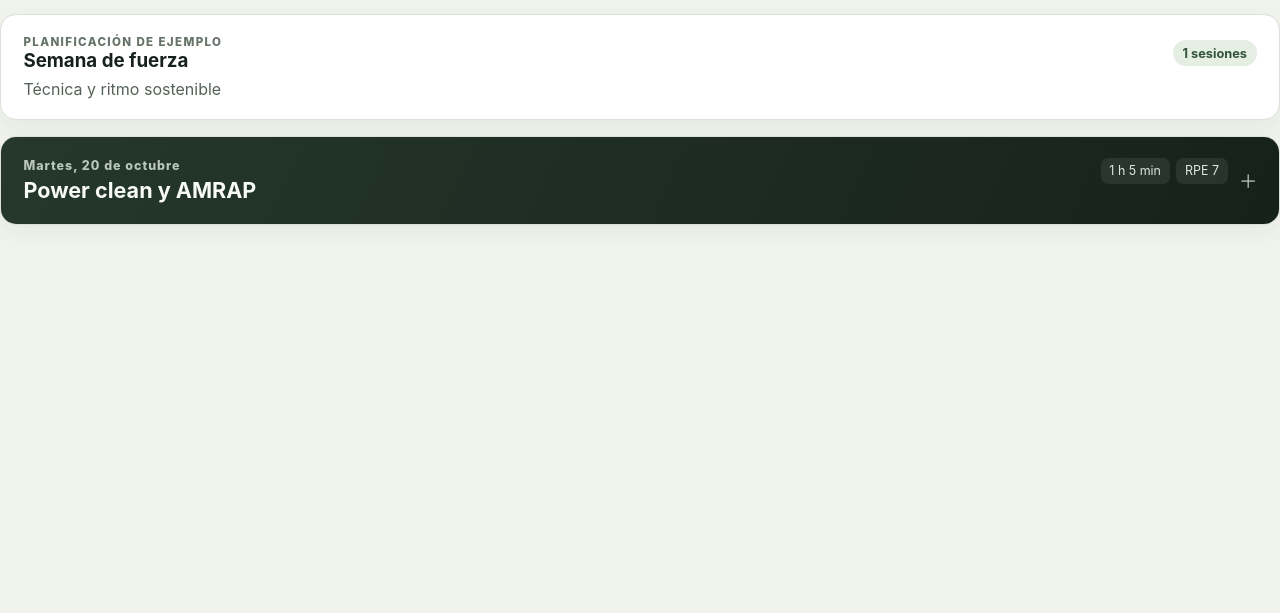
Test: PlanningWeekScreen › switches a load between RX and scaled
Check: the heading "Semana de fuerza" is shown, box [23, 49, 188, 72]
Click the heading "Power clean y AMRAP": x=140, y=190 [23, 177, 256, 203]
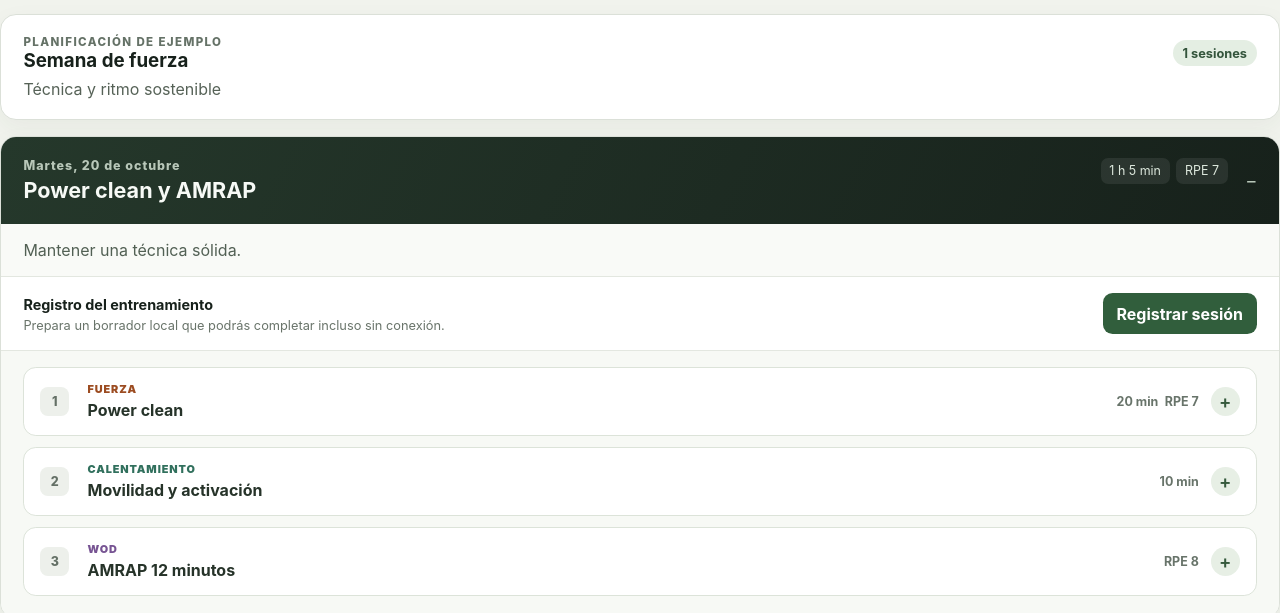
Click the button "Registrar sesión": x=1180, y=314 [1103, 293, 1257, 334]
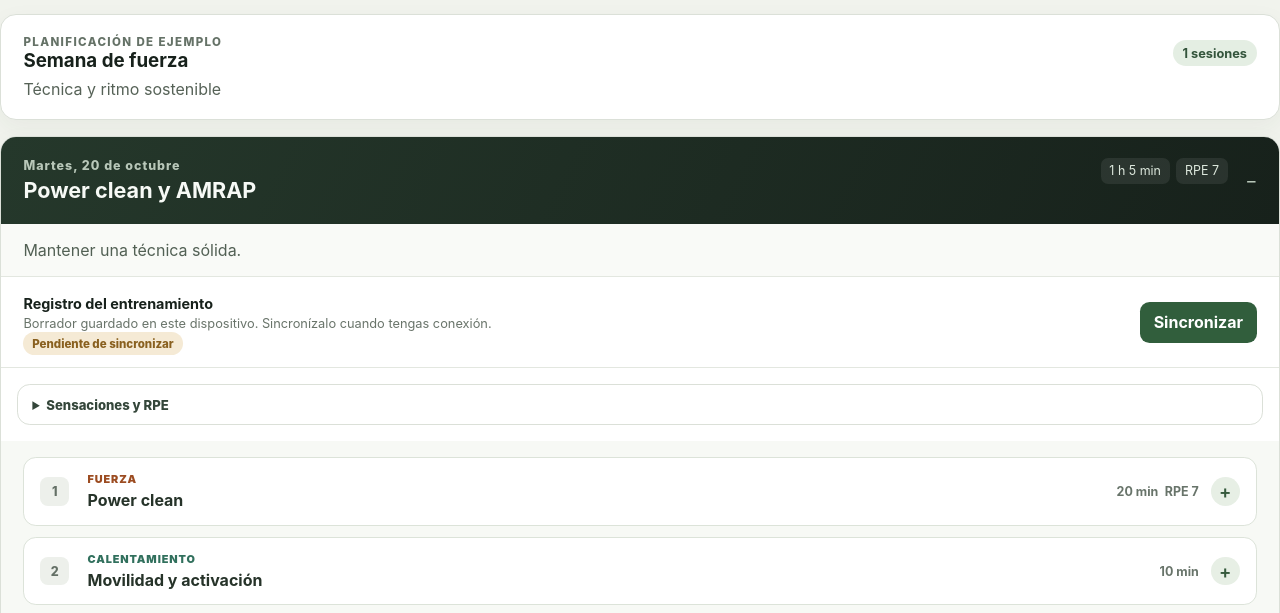
Check: the button "Sincronizar" is shown, box [1140, 302, 1257, 343]
Click the button with aria-label "Fuerza: Power clean": x=112, y=479 [24, 458, 1256, 524]
(page scrolled)
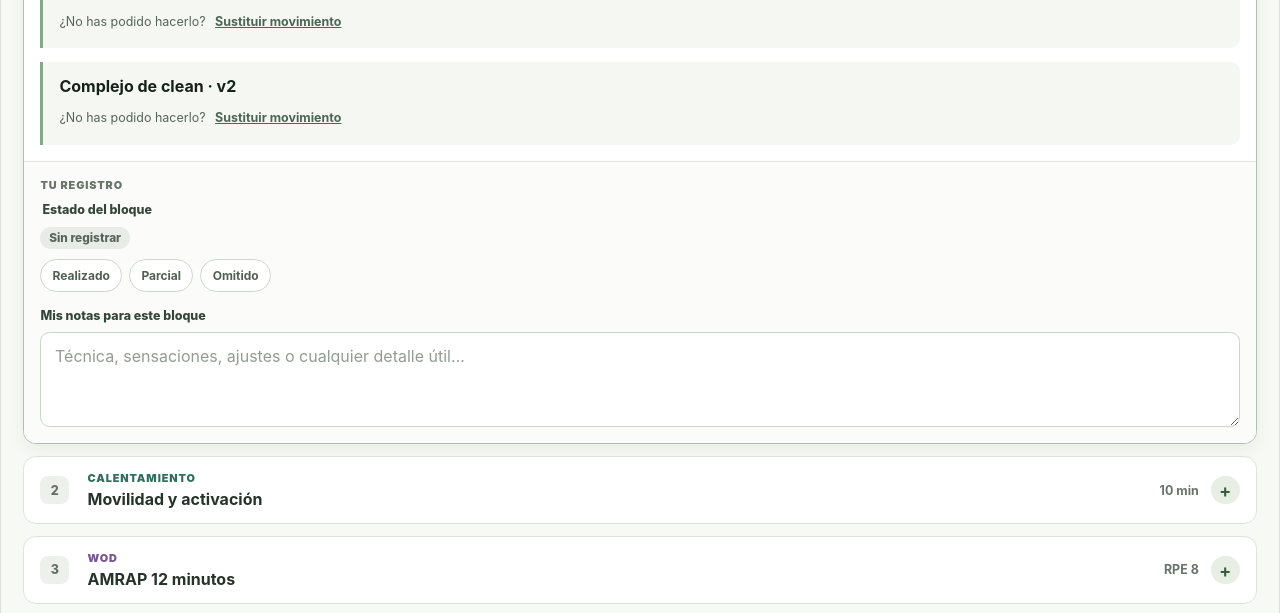
Click the button "Realizado": x=81, y=276 [40, 259, 122, 292]
(page scrolled)
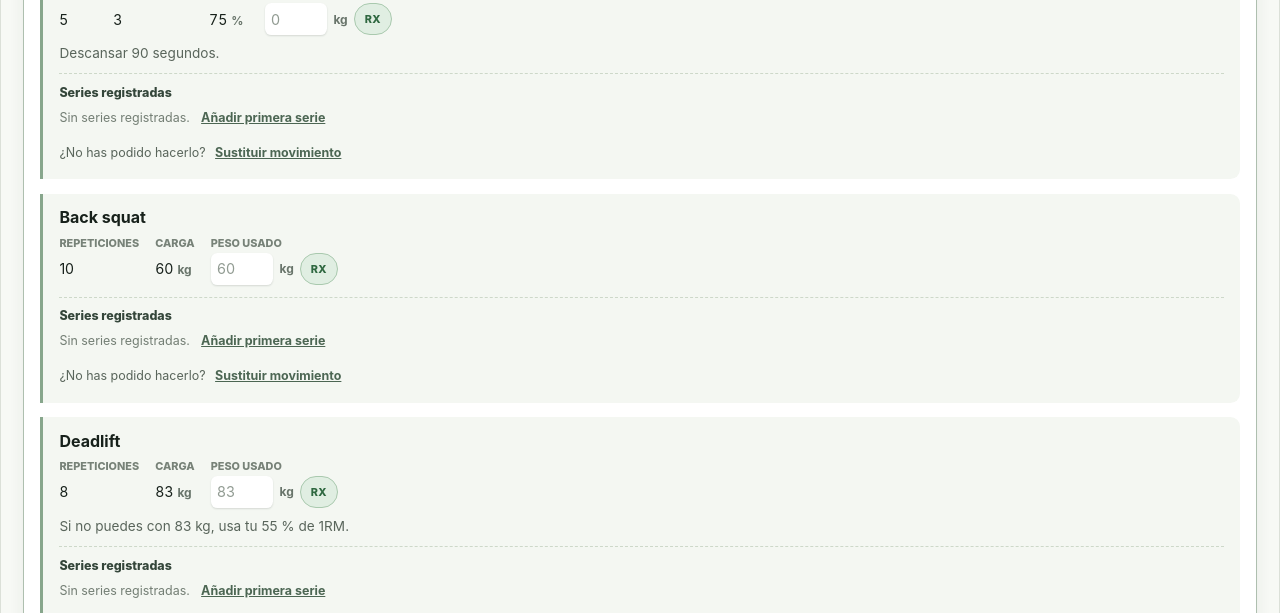
Click the button with aria-label "Tipo de carga en Back squat: RX": x=319, y=269 [300, 253, 338, 285]
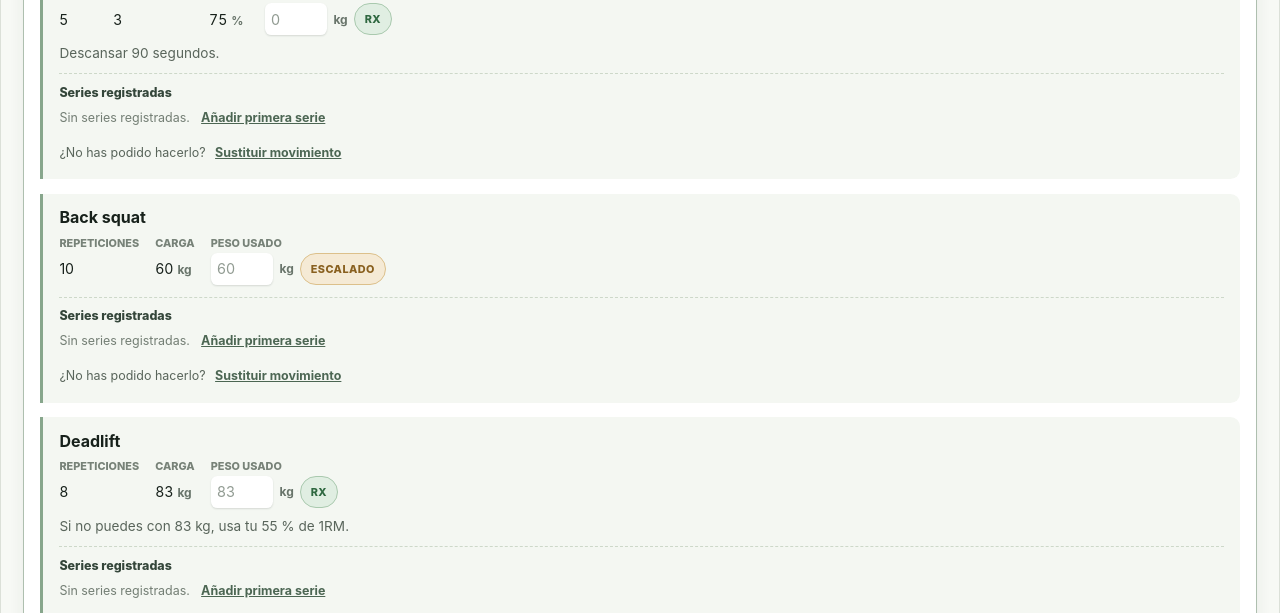
Check: the button with aria-label "Tipo de carga en Back squat: Escalado" is not pressed, box [300, 253, 386, 285]
Check: the button with aria-label "Tipo de carga en Back squat: Escalado" has class "load-status-toggle-scaled", box [300, 253, 386, 285]
In the field named "Peso usado en Back squat": x=242, y=269 [211, 253, 273, 285], type "50"
Click the button with aria-label "Tipo de carga en Back squat: Escalado": x=343, y=269 [300, 253, 386, 285]
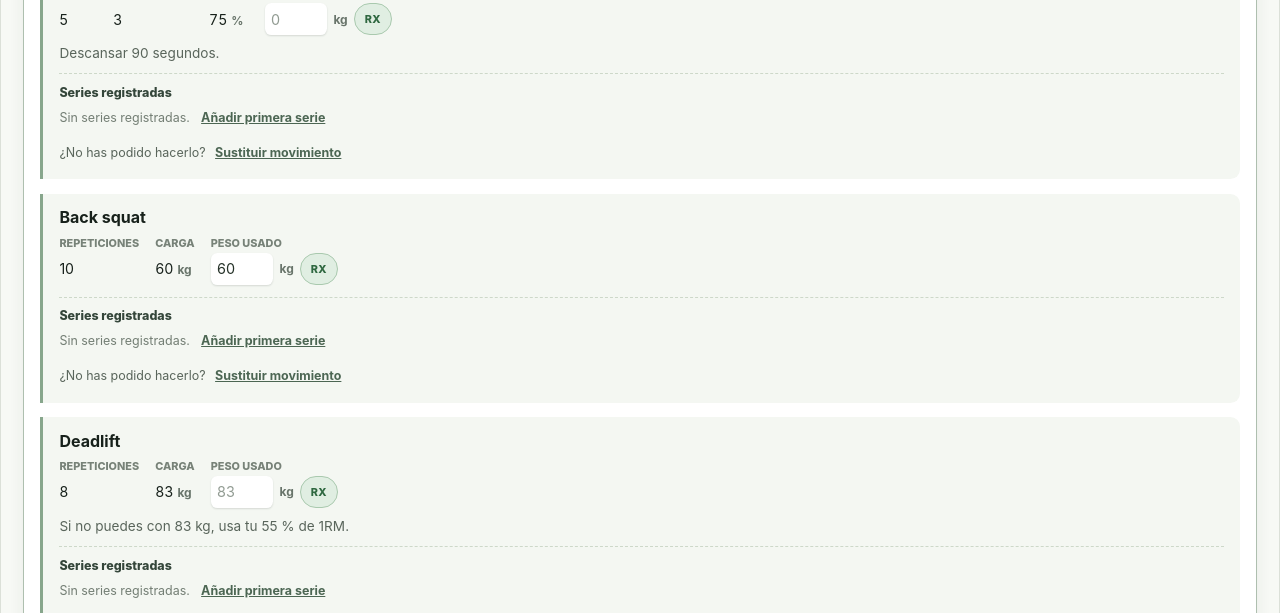
Check: the button with aria-label "Tipo de carga en Back squat: RX" is shown, box [300, 253, 338, 285]
Check: the field named "Peso usado en Back squat" holds "60", box [211, 253, 273, 285]
